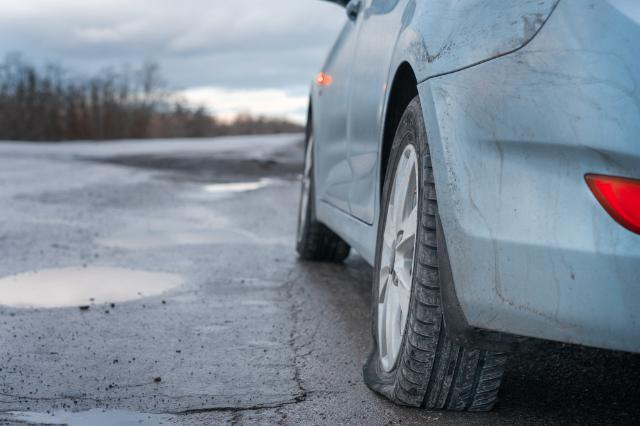tire flat: (361, 97, 510, 413)
